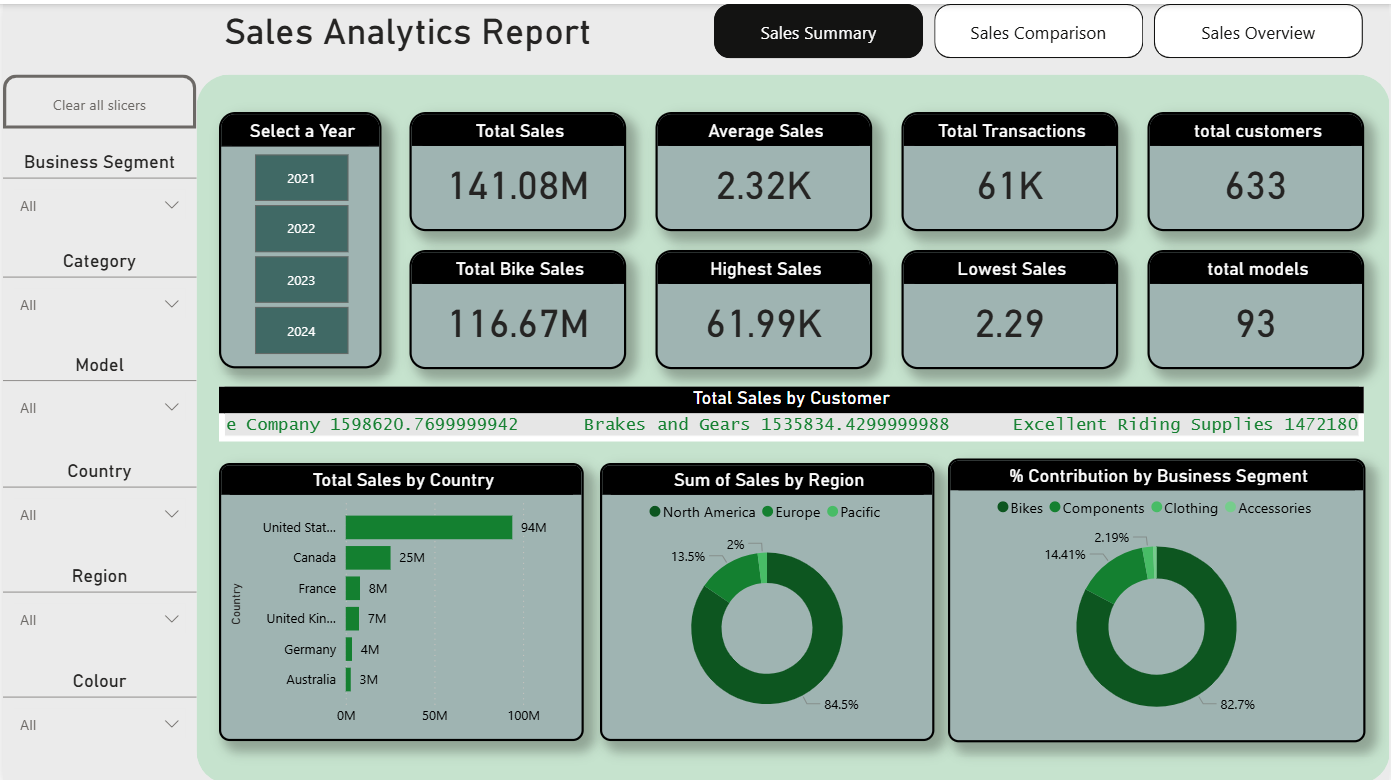

The dashboard page shown, as its layout file describes it:
{"tool":"powerbi","page":{"name":"Sales Summary","canvas":[1280,720],"ordinal":0},"visuals":[{"type":"shape","box":[178.3,65,1101.7,655],"z":0},{"type":"card","title":"Total Transactions","fields":{"Values":["Bike_Data.Total Trxs"]},"box":[829.4,100,200,110],"z":1000},{"type":"card","title":"Total Sales","fields":{"Values":["Bike_Data.Total Sales"]},"box":[375,100,200,110],"z":2000},{"type":"card","title":"Average Sales","fields":{"Values":["Bike_Data.Avg Sales"]},"box":[602.2,100,200,110],"z":3000},{"type":"card","title":"Total Bike Sales","fields":{"Values":["Bike_Data.Bike_sales"]},"box":[375,226.7,200,110],"z":4000},{"type":"card","title":"total customers","fields":{"Values":["Bike_Data.Distinct Count"]},"box":[1056.7,100,200,110],"z":5000},{"type":"card","title":"total models","fields":{"Values":["Bike_Data.DistinctCountNoBlank"]},"box":[1056.7,226.7,200,110],"z":6000},{"type":"card","title":"Highest Sales","fields":{"Values":["Bike_Data.Max Sales"]},"box":[602.2,226.7,200,110],"z":7000},{"type":"card","title":"Lowest Sales","fields":{"Values":["Bike_Data.Min Sales"]},"box":[829.4,226.7,200,110],"z":8000},{"type":"slicer","title":"Business Segment","fields":{"Values":["Bike_Data.BusinessSegment"]},"box":[0,135,178.3,61.7],"z":9000},{"type":"slicer","title":"Category","fields":{"Values":["Bike_Data.Category"]},"box":[0,227.3,178.3,65],"z":10000},{"type":"slicer","title":"Colour","fields":{"Values":["Bike_Data.Color"]},"box":[0,615,178.3,66.7],"z":11000},{"type":"slicer","title":"Country","fields":{"Values":["Bike_Data.Country"]},"box":[0,420.3,178.3,66.7],"z":12000},{"type":"slicer","title":"Model","fields":{"Values":["Bike_Data.Model"]},"box":[0,323,178.3,66.7],"z":13000},{"type":"slicer","title":"Region","fields":{"Values":["Bike_Data.Region"]},"box":[0,517.7,178.3,66.7],"z":14000},{"type":"actionButton","box":[0,65,178.3,50],"z":15000},{"type":"slicer","title":"Select a Year","fields":{"Values":["DateMaster.Year"]},"box":[200,100,150,236.7],"z":16000},{"type":"textbox","box":[200,0,401.7,50],"z":17000},{"type":"barChart","fields":{"Category":["Bike_Data.Country"],"Y":["Bike_Data.Total Sales"]},"box":[200,423.3,336.7,256.7],"z":18000},{"type":"donutChart","fields":{"Category":["Bike_Data.Region"],"Y":["Sum(Bike_Data.Sales)"]},"box":[551.7,423.3,308.3,256.7],"z":19000},{"type":"donutChart","title":"% Contribution by Business Segment","fields":{"Category":["Bike_Data.BusinessSegment"],"Y":["Bike_Data.Total Sales"]},"box":[871.7,420,385,261.7],"z":20000},{"type":"ScrollingTextVisual1448795304508","fields":{"Category":["Bike_Data.Customer"],"Measure Absolute":["Bike_Data.Total Sales"]},"box":[200,353.3,1056.7,50],"z":21000},{"type":"pageNavigator","box":[656.7,0,600,50],"z":22000}]}

Visuals, with their boxes in screenshot pixels (x1, y1, x2, y2), scaled from the page's 1280x720 canvas onto the 1391x780 screenshot:
shape: (194,70,1390,779)
"Total Transactions" card: (901,108,1119,227)
"Total Sales" card: (408,108,625,227)
"Average Sales" card: (654,108,872,227)
"Total Bike Sales" card: (408,246,625,365)
"total customers" card: (1148,108,1366,227)
"total models" card: (1148,246,1366,365)
"Highest Sales" card: (654,246,872,365)
"Lowest Sales" card: (901,246,1119,365)
"Business Segment" slicer: (0,146,194,213)
"Category" slicer: (0,246,194,317)
"Colour" slicer: (0,666,194,739)
"Country" slicer: (0,455,194,528)
"Model" slicer: (0,350,194,422)
"Region" slicer: (0,561,194,633)
actionButton: (0,70,194,125)
"Select a Year" slicer: (217,108,380,365)
textbox: (217,0,654,54)
barChart - Bike_Data.Country x Bike_Data.Total Sales: (217,459,583,737)
donutChart - Bike_Data.Region x Sum(Bike_Data.Sales): (600,459,935,737)
"% Contribution by Business Segment" donutChart: (947,455,1366,739)
ScrollingTextVisual1448795304508 - Bike_Data.Customer x Bike_Data.Total Sales: (217,383,1366,437)
pageNavigator: (714,0,1366,54)
